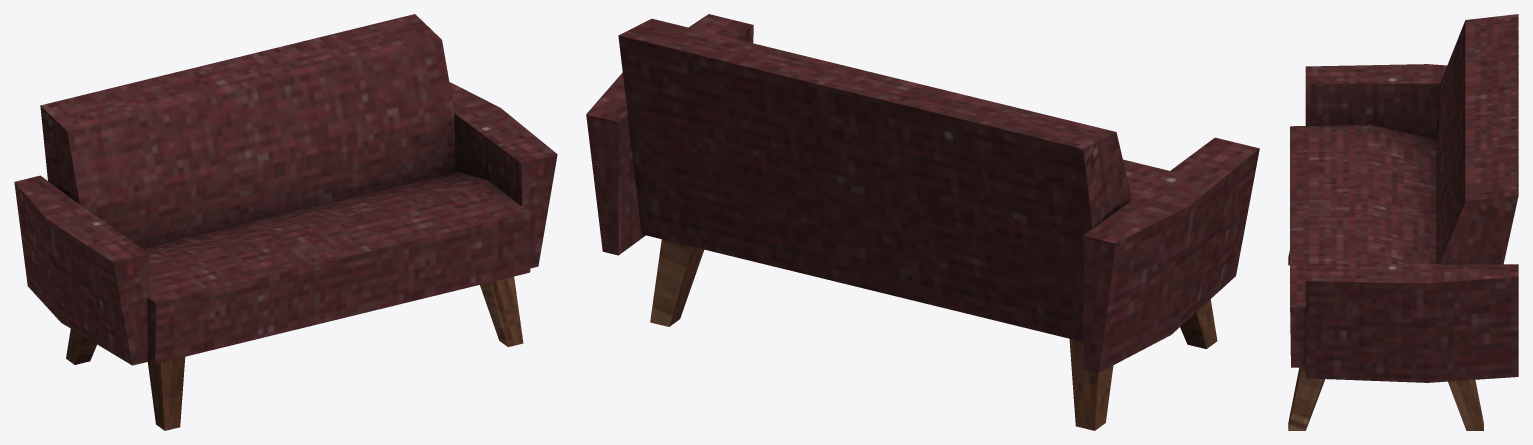
File: sofa.fbx
The picture shows the model from 3 angles, left to right: view 1: azimuth 30°, elevation 25°; view 2: azimuth 150°, elevation 25°; view 3: azimuth 270°, elevation 25°; orthographic projection. The views are drawn at different scales.
Visible parts, largest first — view 1: sofa; view 2: sofa; view 3: sofa.
Boxes of the visible parts, x1,y1,x2,y2 form: sofa: (14, 14, 557, 430); sofa: (586, 14, 1259, 430); sofa: (1288, 14, 1518, 430).
Size of the model in its own units: 197 by 100 by 87.29.
1 material, 1 textured.
